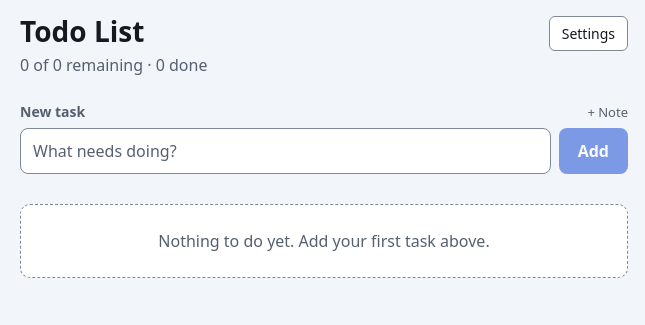
Test: App › adds, edits, completes and deletes a task
Expected: the text "Nothing to do yet. Add your first task above." is shown, 20,204 -> 628,278
In the field labelled "New task": (285, 151) 20,128 -> 551,174, type "Buy milk"
Then press Enter
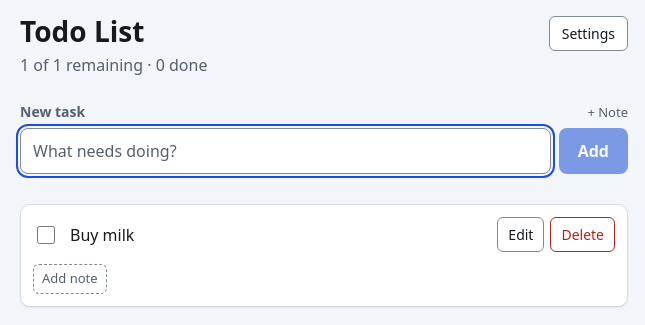
Now the text "Buy milk" is shown, box 70,223 -> 134,247
Click the button with aria-label "Edit Buy milk": (521, 235) 497,217 -> 544,252
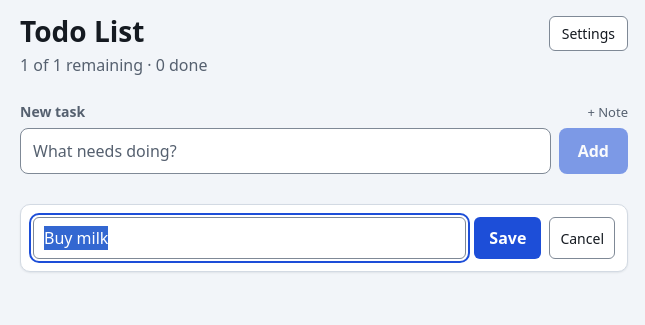
Replace the text in the field named "Edit Buy milk" with "Buy oat milk": (250, 238) 33,217 -> 466,259
Then press Enter
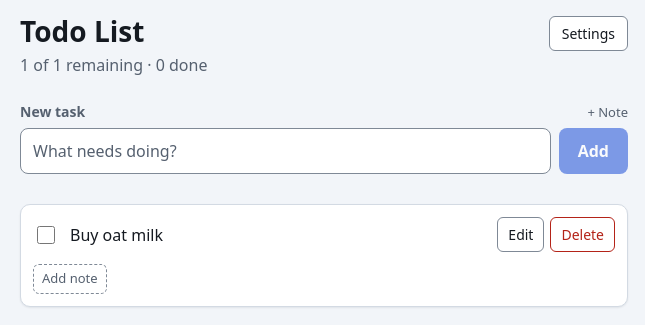
Expected: the text "Buy milk" is not shown
Now the text "Buy oat milk" is shown, box 70,223 -> 163,247
Click the checkbox: (46, 235) 37,226 -> 55,244
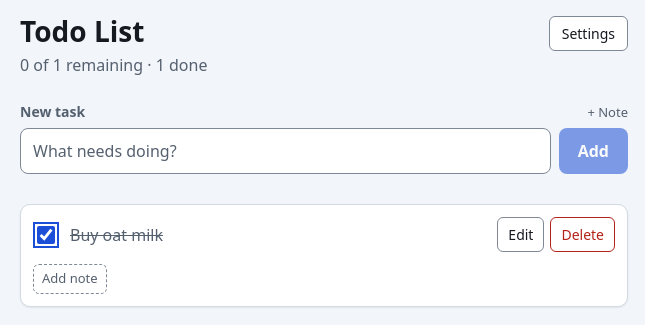
Now the list item has attribute data-done="true", box 20,204 -> 628,307
Now the checkbox is checked, box 37,226 -> 55,244
Click the button with aria-label "Delete Buy oat milk": (583, 235) 550,217 -> 615,252
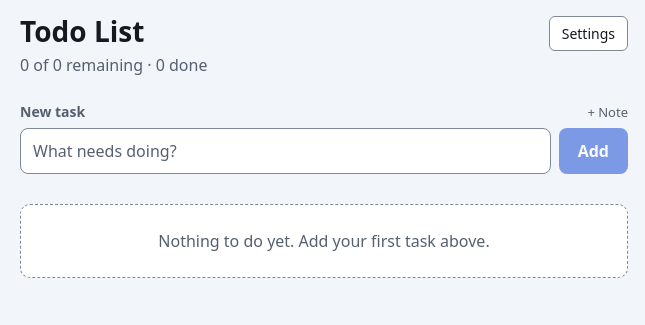
Now the text "Nothing to do yet. Add your first task above." is shown, box 20,204 -> 628,278
